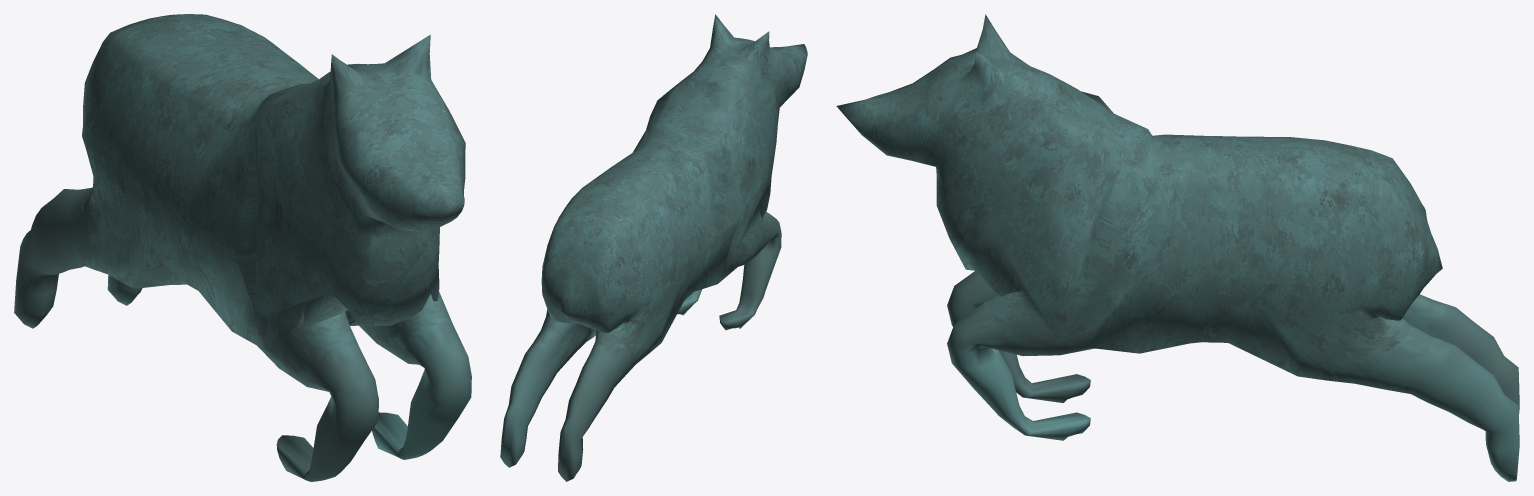
File: piesblend_000014.obj
3 renders of one model, left to right at view 1: azimuth 30°, elevation 25°; view 2: azimuth 150°, elevation 25°; view 3: azimuth 270°, elevation 25°, orthographic. The views are drawn at different scales.
Visible parts, largest first — view 1: Cube; view 2: Cube; view 3: Cube.
Part boxes in pixels (bbox=[...]): Cube: bbox=[14, 14, 471, 481]; Cube: bbox=[500, 14, 807, 481]; Cube: bbox=[836, 14, 1519, 481].
Size of the model in its own units: 2.55 by 6.48 by 9.44.
Materials: 1 (1 with a texture image).
